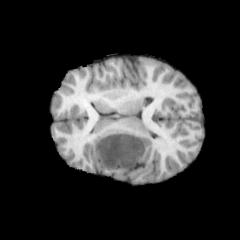glioma: (94, 131, 151, 170)
